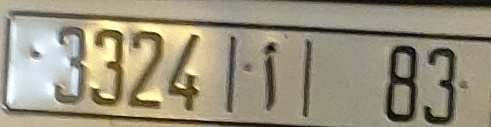2: (127, 30, 164, 111)
3: (89, 28, 126, 107), (53, 24, 87, 105), (424, 47, 457, 127)
4: (166, 33, 203, 112)
8: (386, 42, 419, 123)
a: (258, 38, 280, 112)
